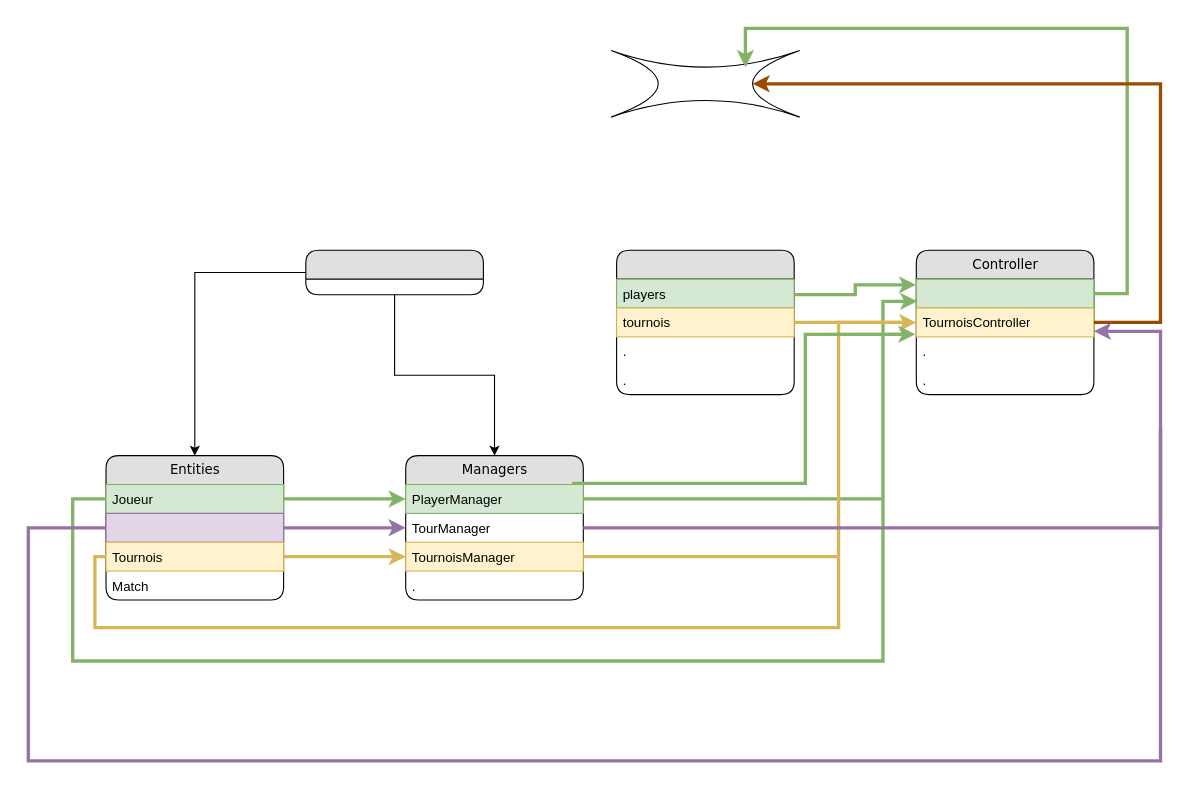
The diagram is 1190 pixels wide and 790 high, and some of its shapes have lost their labels. Here are the shapes that lost their labels. From the top down, the box of each, then its label:
(610, 49, 800, 117): main.py
(305, 249, 483, 295): Models
(915, 278, 1094, 308): PlayerController
(615, 249, 794, 395): Views
(105, 512, 284, 542): Tour
